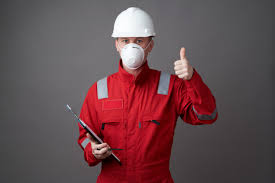Helmet: (107, 11, 159, 40)
Jacket: (91, 74, 178, 183)
Mask: (116, 46, 145, 71)
